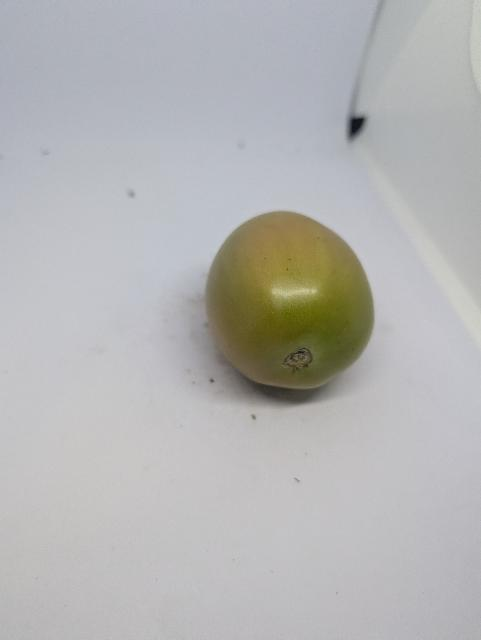breaker: (202, 209, 378, 397)
